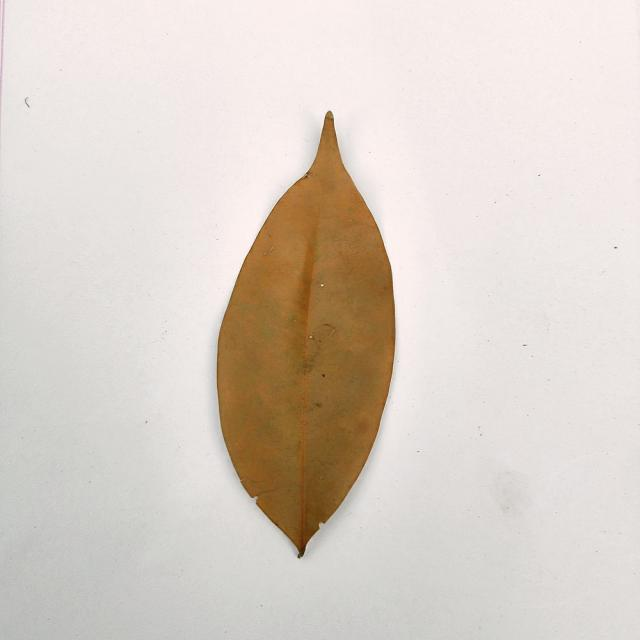Dry_Leaf-Lychee: (216, 113, 396, 559)
